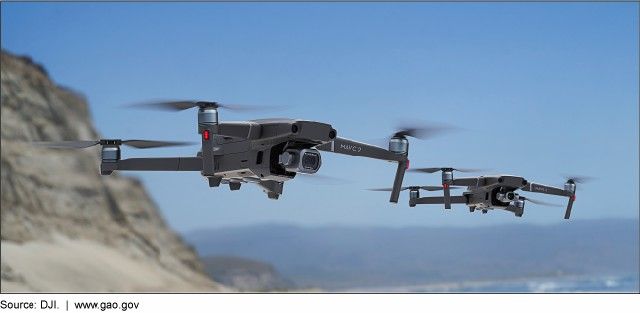maybay_khongnguoilai: (28, 94, 432, 207), (387, 160, 583, 227)
